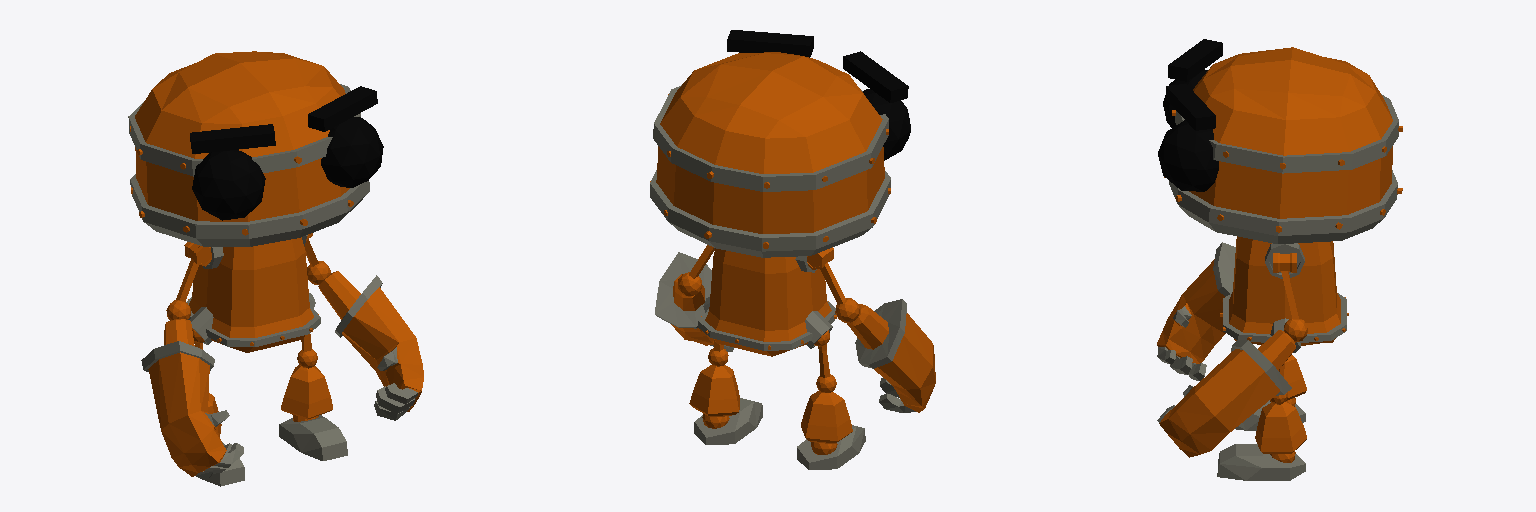
File: robot.obj
3 renders of one model, left to right at view 1: azimuth 30°, elevation 25°; view 2: azimuth 150°, elevation 25°; view 3: azimuth 270°, elevation 25°, orthographic.
Parts seen in each view (by area): view 1: Head_Cylinder, Torso_Cube.001, Hand.R_Cylinder.015, Hand.L_Cylinder.022, Foot.L_Cylinder.014, LowerLeg.L_Cylinder.012, Arm.R_Cylinder.013, Foot.R_Cylinder.017, Arm.L_Cylinder.010; view 2: Head_Cylinder, Torso_Cube.001, Hand.R_Cylinder.015, Hand.L_Cylinder.022, LowerLeg.R_Cylinder.018, LowerLeg.L_Cylinder.012, Foot.L_Cylinder.014, Foot.R_Cylinder.017, Arm.R_Cylinder.013, Arm.L_Cylinder.010, Leg.R_Cylinder.019; view 3: Head_Cylinder, Torso_Cube.001, Hand.L_Cylinder.022, Hand.R_Cylinder.015, Foot.L_Cylinder.014, LowerLeg.L_Cylinder.012, Arm.L_Cylinder.010, LowerLeg.R_Cylinder.018.
Boxes of the visible parts, <box> form: Head_Cylinder: <box>128,51,383,246</box>; Torso_Cube.001: <box>186,235,320,352</box>; Hand.R_Cylinder.015: <box>141,319,243,478</box>; Hand.L_Cylinder.022: <box>318,271,423,420</box>; Foot.L_Cylinder.014: <box>279,415,347,460</box>; LowerLeg.L_Cylinder.012: <box>281,365,332,421</box>; Arm.R_Cylinder.013: <box>166,259,198,320</box>; Foot.R_Cylinder.017: <box>196,442,244,486</box>; Arm.L_Cylinder.010: <box>304,239,330,284</box>; Head_Cylinder: <box>650,30,910,257</box>; Torso_Cube.001: <box>698,248,836,356</box>; Hand.R_Cylinder.015: <box>847,299,935,412</box>; Hand.L_Cylinder.022: <box>655,252,733,351</box>; LowerLeg.R_Cylinder.018: <box>801,391,852,454</box>; LowerLeg.L_Cylinder.012: <box>689,365,739,428</box>; Foot.L_Cylinder.014: <box>694,398,762,444</box>; Foot.R_Cylinder.017: <box>797,425,865,469</box>; Arm.R_Cylinder.013: <box>820,262,859,322</box>; Arm.L_Cylinder.010: <box>678,245,714,296</box>; Leg.R_Cylinder.019: <box>816,344,836,392</box>; Head_Cylinder: <box>1158,39,1402,243</box>; Torso_Cube.001: <box>1220,236,1348,352</box>; Hand.L_Cylinder.022: <box>1157,330,1295,457</box>; Hand.R_Cylinder.015: <box>1157,242,1235,380</box>; Foot.L_Cylinder.014: <box>1217,444,1305,480</box>; LowerLeg.L_Cylinder.012: <box>1255,402,1306,462</box>; Arm.L_Cylinder.010: <box>1281,271,1307,342</box>; LowerLeg.R_Cylinder.018: <box>1270,355,1306,406</box>.
Bounding box in the file's own units: 3.1 × 4.5 × 2.63.